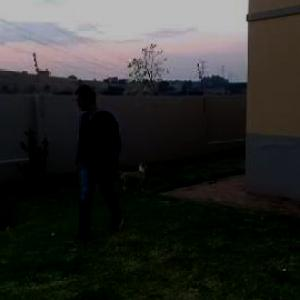follow: (70, 79, 123, 243)
